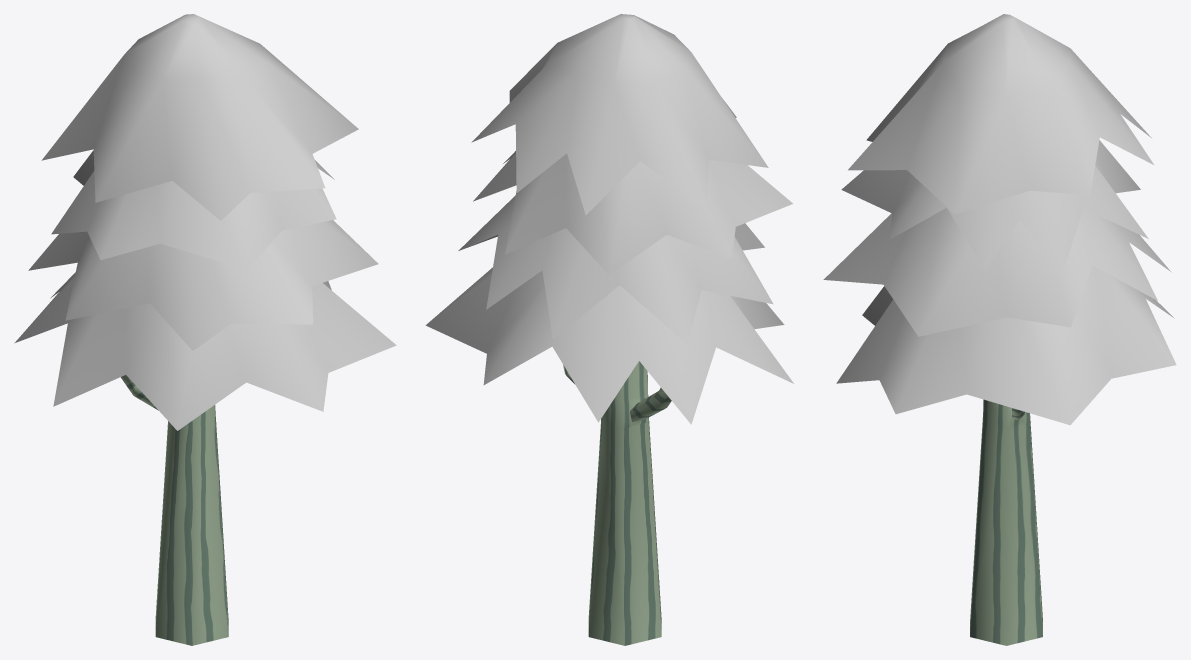
File: S_Tree_E.fbx
The picture shows the model from 3 angles, left to right: view 1: azimuth 30°, elevation 25°; view 2: azimuth 150°, elevation 25°; view 3: azimuth 270°, elevation 25°; orthographic projection.
Visible parts, largest first — view 1: S_Tree_E_m; view 2: S_Tree_E_m; view 3: S_Tree_E_m.
Boxes of the visible parts, x1,y1,x2,y2 form: S_Tree_E_m: (14,14,396,645); S_Tree_E_m: (425,14,793,645); S_Tree_E_m: (823,14,1176,645).
Bounding box in the file's own units: 37.36 × 67.87 × 35.64.
